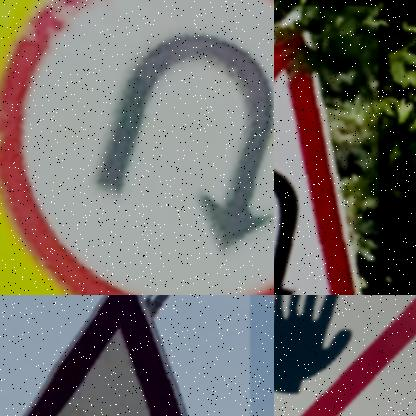Slow: (25, 295, 185, 416)
Stop: (274, 295, 416, 416)
U-Turn: (274, 6, 364, 295)
